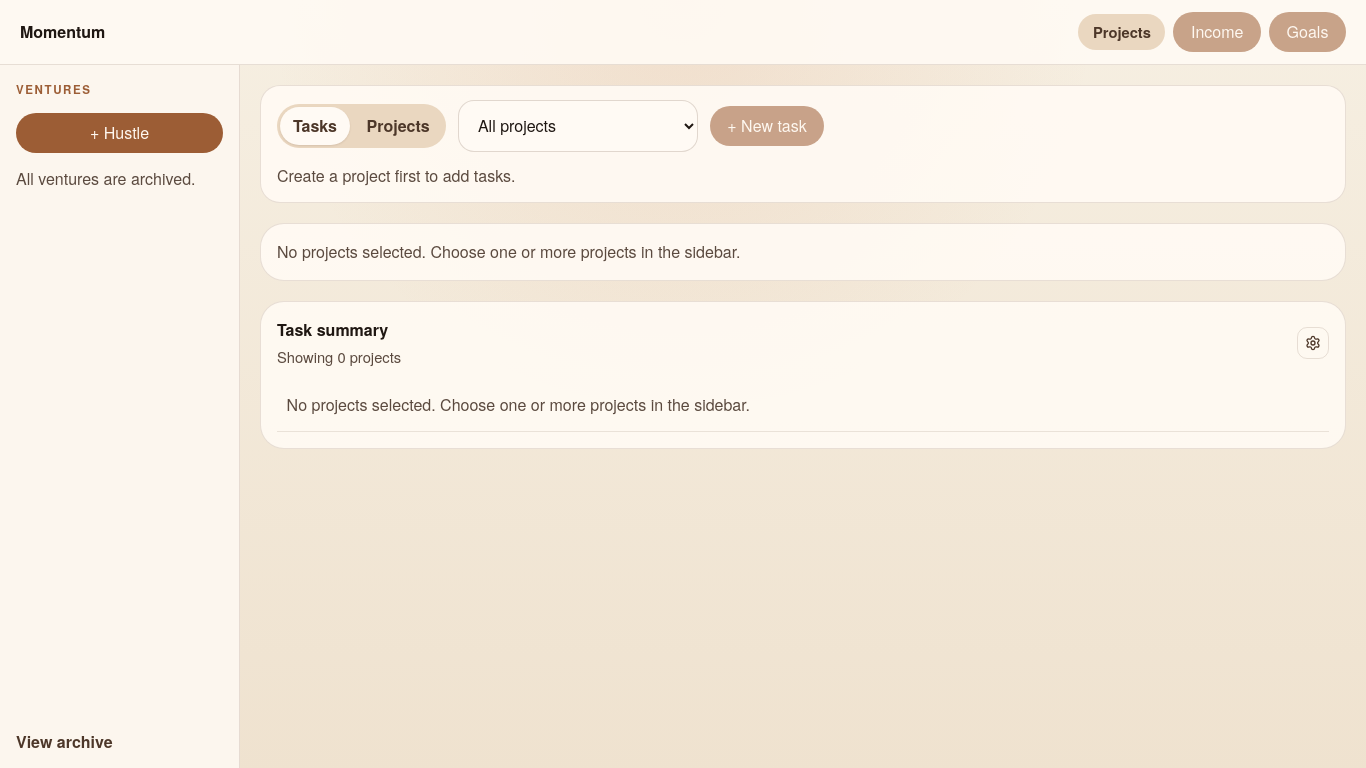
Test: Ticket 1.6-14 — archive ventures vs projects UX › opens archived venture detail with read-only venture fields when a row is activated
Click the button "View archive".
click(120, 742)  # box [16, 725, 223, 760]
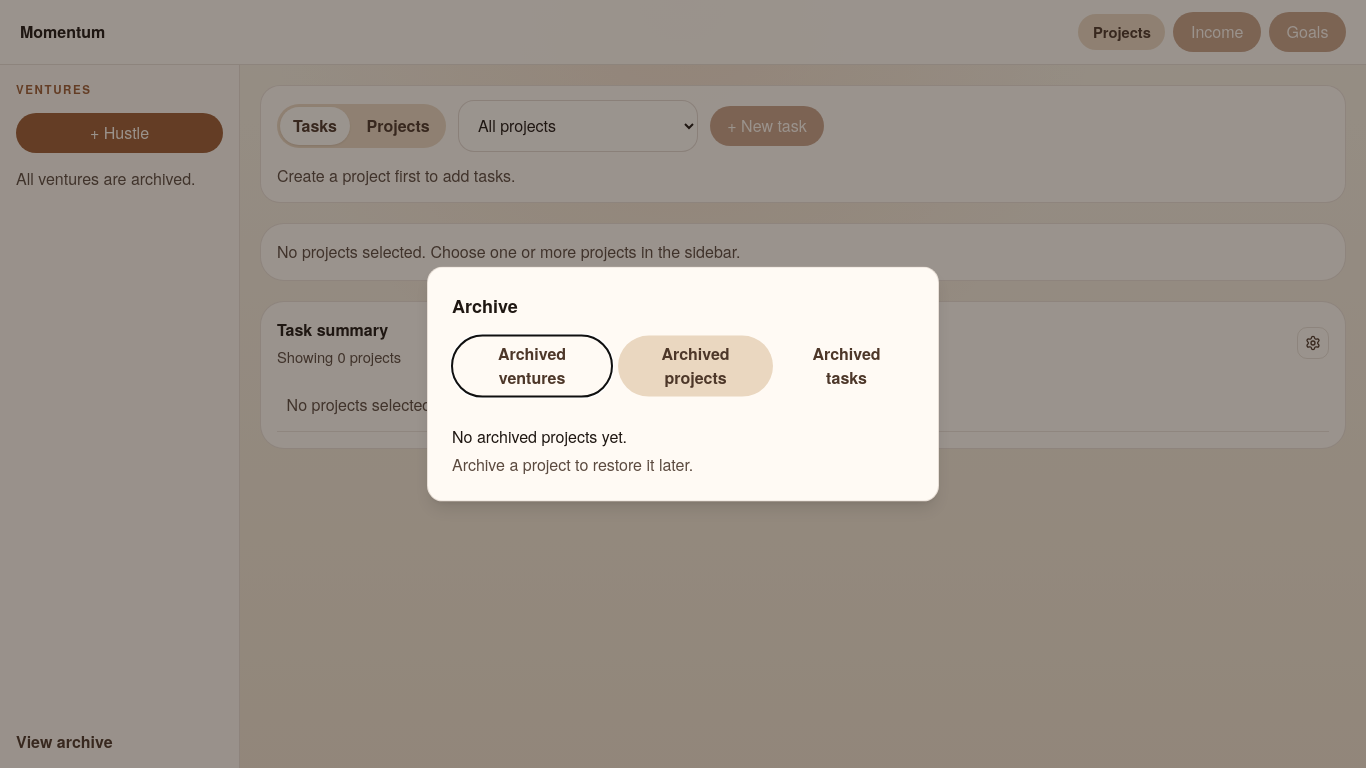
Click the tab "Archived ventures".
click(532, 366)  # box [452, 336, 612, 396]
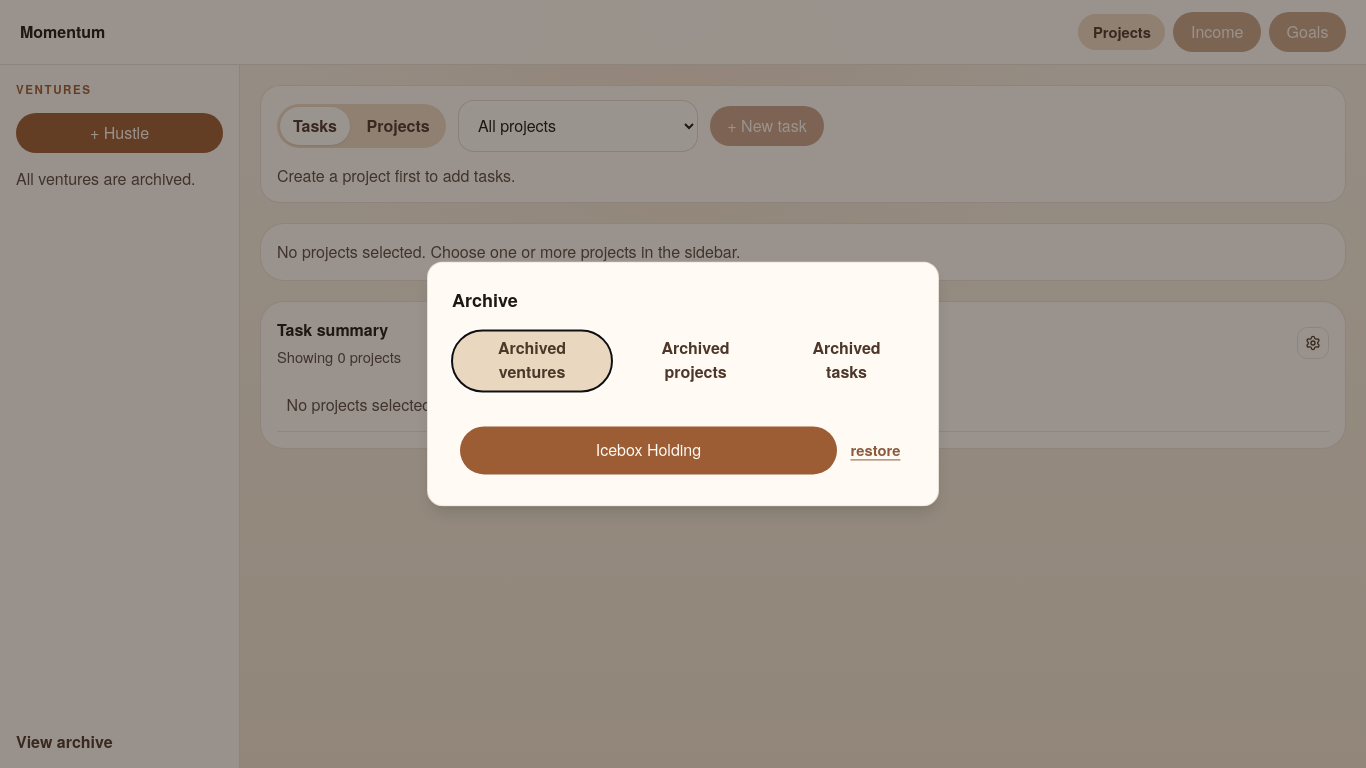
Click the button "Icebox Holding".
click(648, 450)  # box [460, 426, 837, 474]
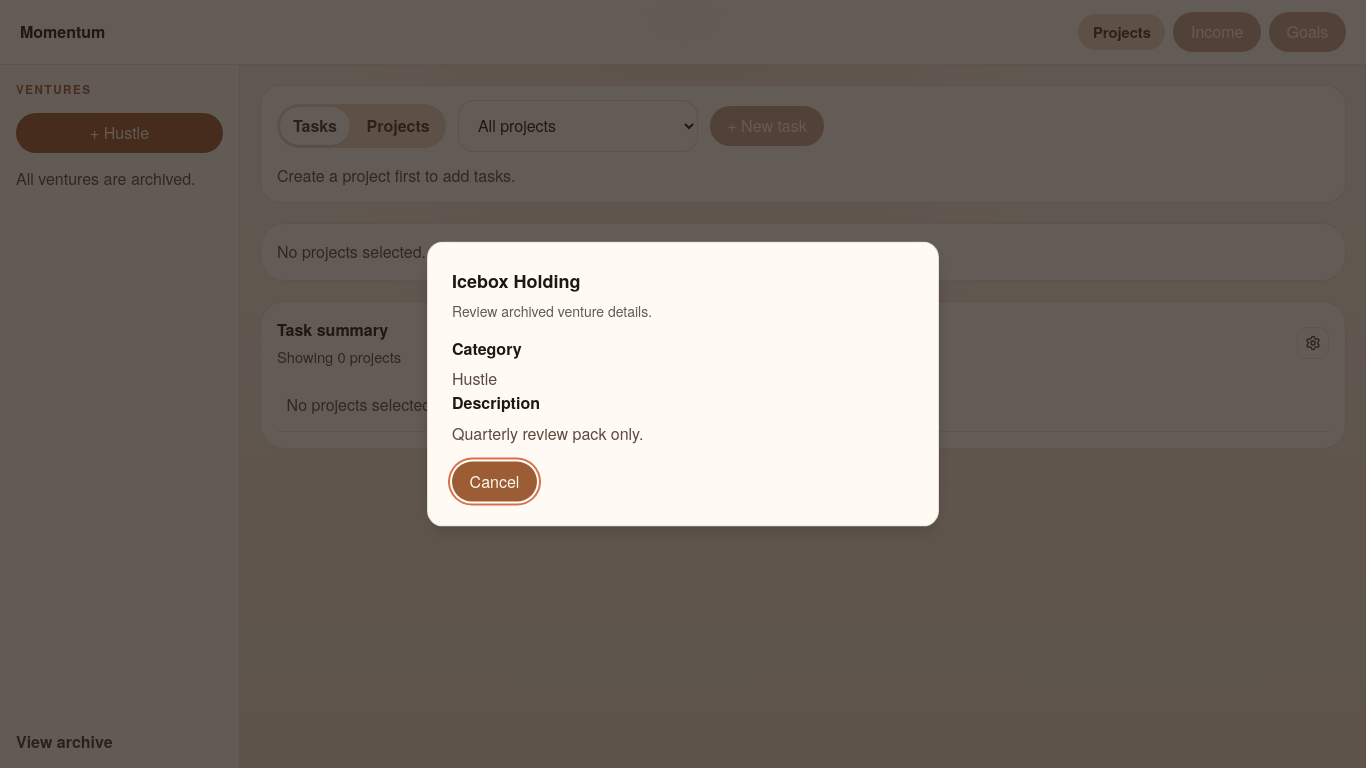
Result: the text "Quarterly review pack only." is shown at [452, 421, 643, 444]
